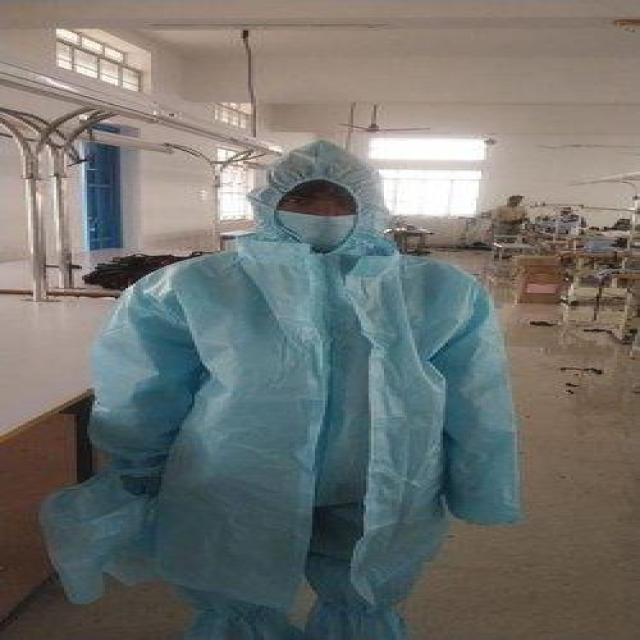Coverall: (46, 88, 520, 631)
Mask: (259, 208, 371, 250)
